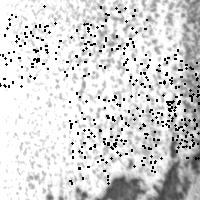pitted_surface: (4, 1, 200, 182), (87, 6, 146, 66), (125, 57, 184, 116), (69, 123, 127, 182), (101, 113, 160, 171), (142, 66, 200, 123), (30, 22, 90, 77), (141, 109, 197, 166), (69, 92, 123, 148), (0, 5, 45, 63), (0, 25, 36, 85), (152, 155, 196, 200), (167, 44, 200, 103), (167, 86, 200, 144), (98, 176, 147, 199)
